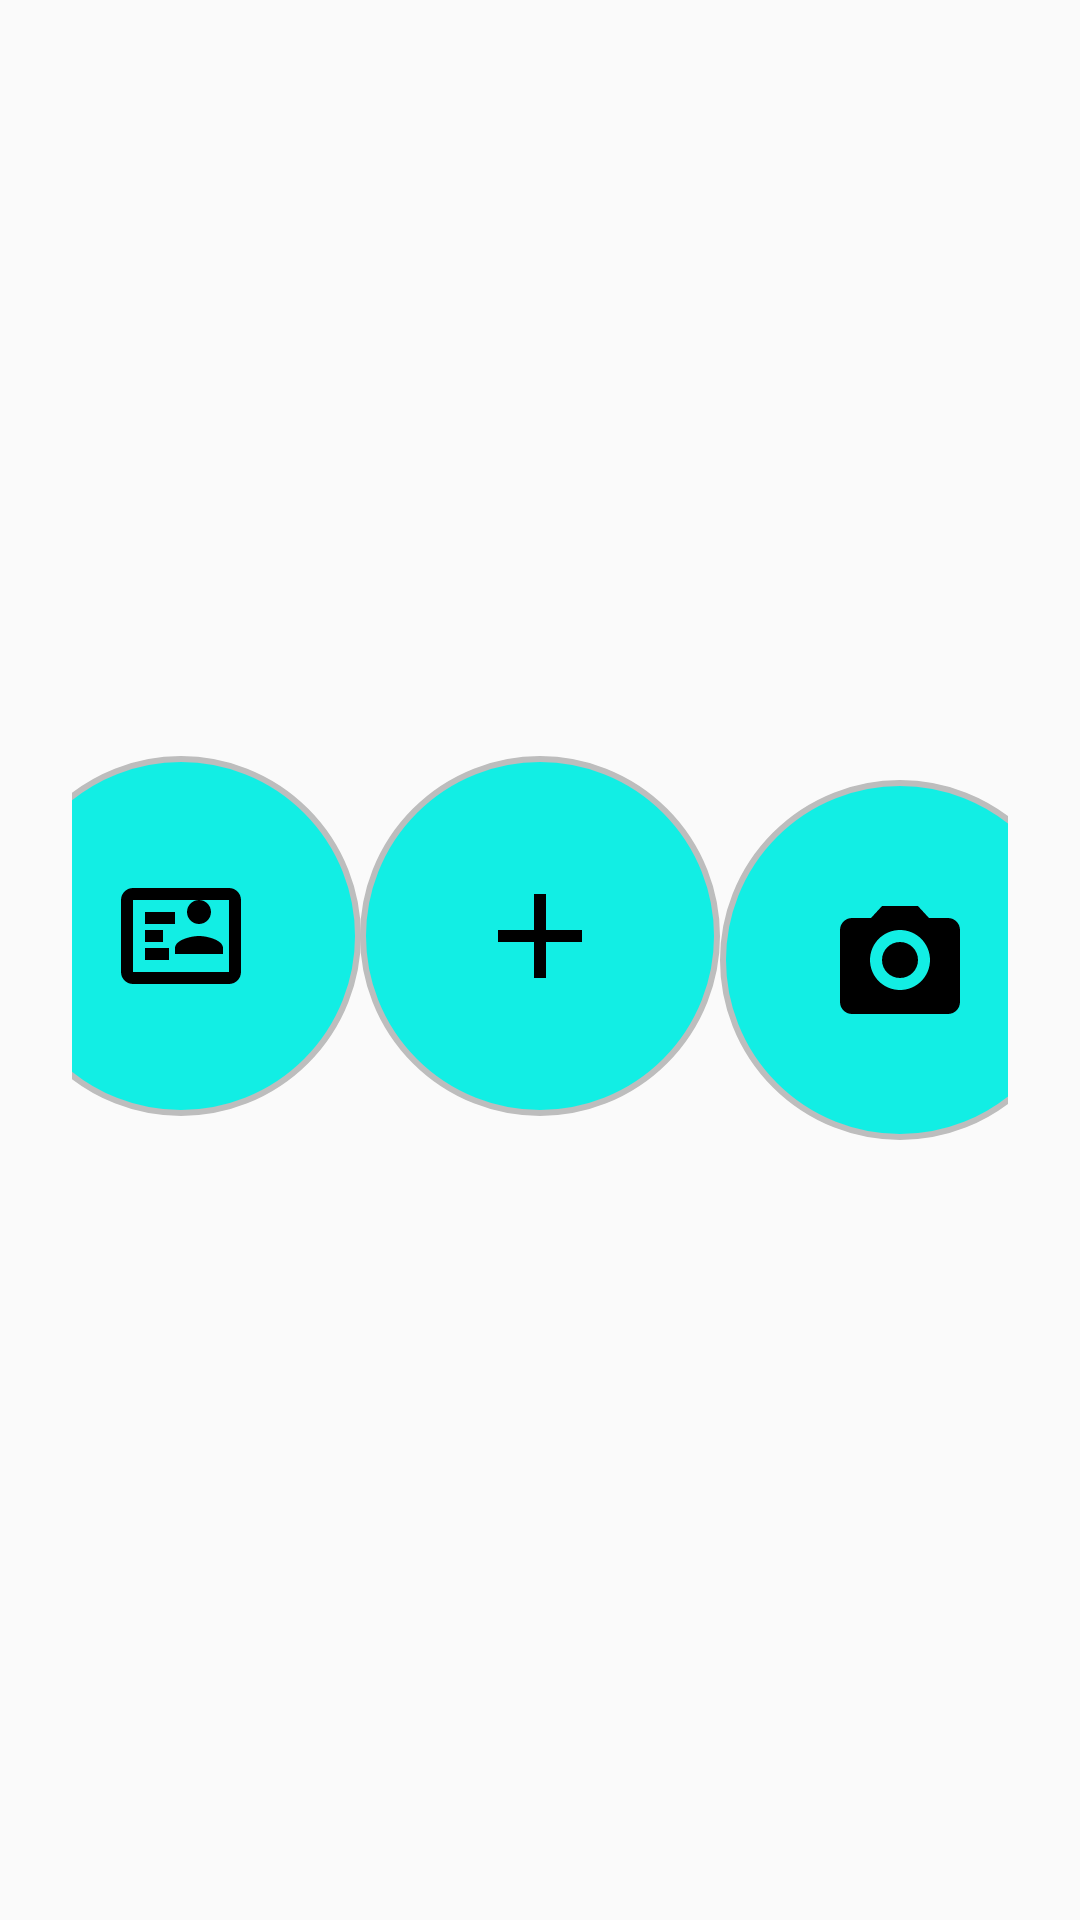

Named icons in this screenshot (1080 x 1920) and their centers, point (x, y):
Camera: point (864, 960)
ID Card: point (216, 936)
